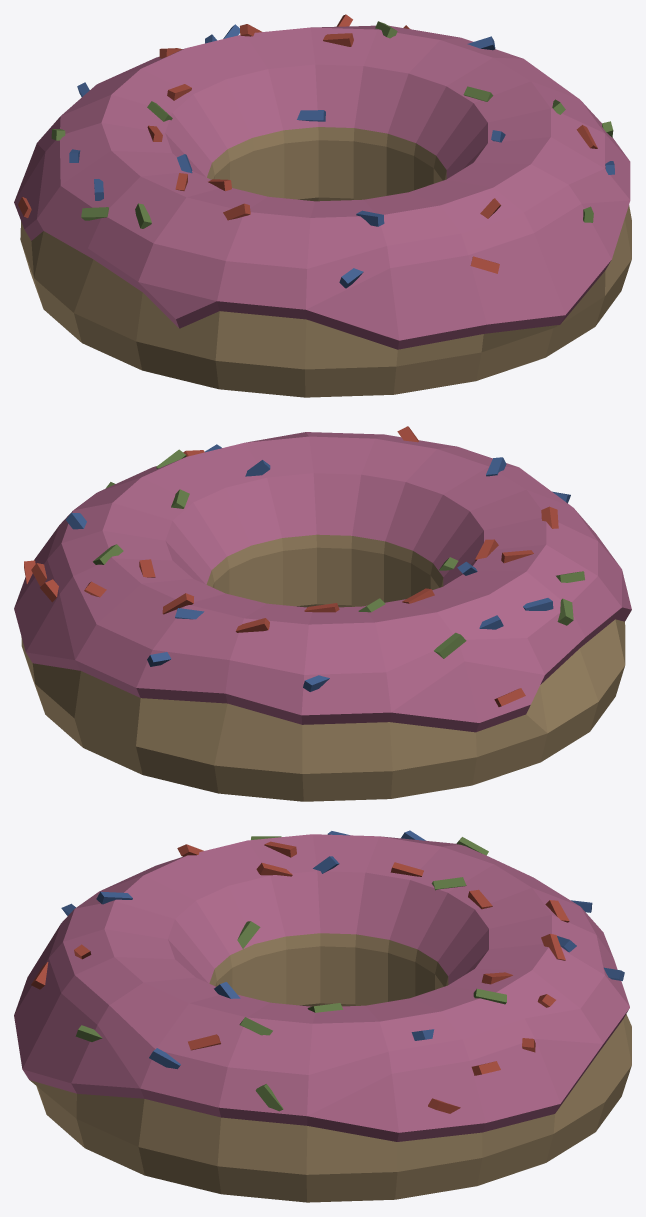
The model's file is Donut.obj.
3 views of the same model, one above another, from view 1: azimuth 30°, elevation 25°; view 2: azimuth 150°, elevation 25°; view 3: azimuth 270°, elevation 25° (orthographic).
Parts seen in each view (by area): view 1: mesh_1, mesh_0, mesh_4, mesh_2, mesh_3; view 2: mesh_1, mesh_0, mesh_4, mesh_2, mesh_3; view 3: mesh_1, mesh_0, mesh_4, mesh_3, mesh_2.
Part boxes in pixels (x1,y1,x2,y2): mesh_1: [14, 25, 630, 349]; mesh_0: [20, 127, 631, 397]; mesh_4: [18, 14, 597, 273]; mesh_2: [69, 24, 614, 288]; mesh_3: [51, 21, 613, 228]; mesh_1: [14, 432, 631, 732]; mesh_0: [21, 534, 625, 801]; mesh_4: [24, 426, 558, 706]; mesh_2: [65, 444, 570, 691]; mesh_3: [93, 449, 584, 658]; mesh_1: [14, 834, 629, 1141]; mesh_0: [29, 933, 631, 1202]; mesh_4: [31, 841, 569, 1113]; mesh_3: [75, 836, 506, 1111]; mesh_2: [61, 830, 624, 1069].
Bounding box in the file's own units: 0.8591 × 0.2914 × 0.8698.
